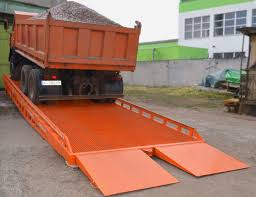Yard Ramp: (2, 74, 251, 196)
